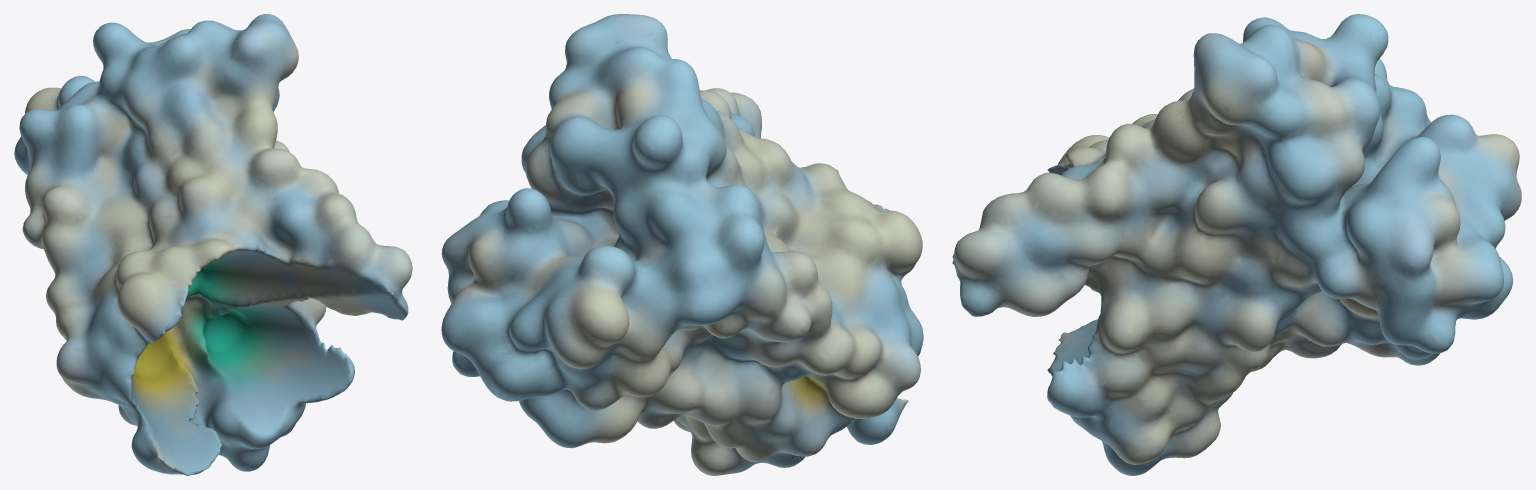
File: beta2_facil.glb
3 renders of one model, left to right at view 1: azimuth 30°, elevation 25°; view 2: azimuth 150°, elevation 25°; view 3: azimuth 270°, elevation 25°, orthographic. The views are drawn at different scales.
Parts seen in each view (by area): view 1: geometry_0; view 2: geometry_0; view 3: geometry_0.
Boxes of the visible parts, x1=… form: geometry_0: x1=14, y1=14, x2=412, y2=475; geometry_0: x1=441, y1=14, x2=923, y2=475; geometry_0: x1=952, y1=14, x2=1521, y2=475.
Bounding box in the file's own units: 0.4279 × 0.5469 × 0.6094.
